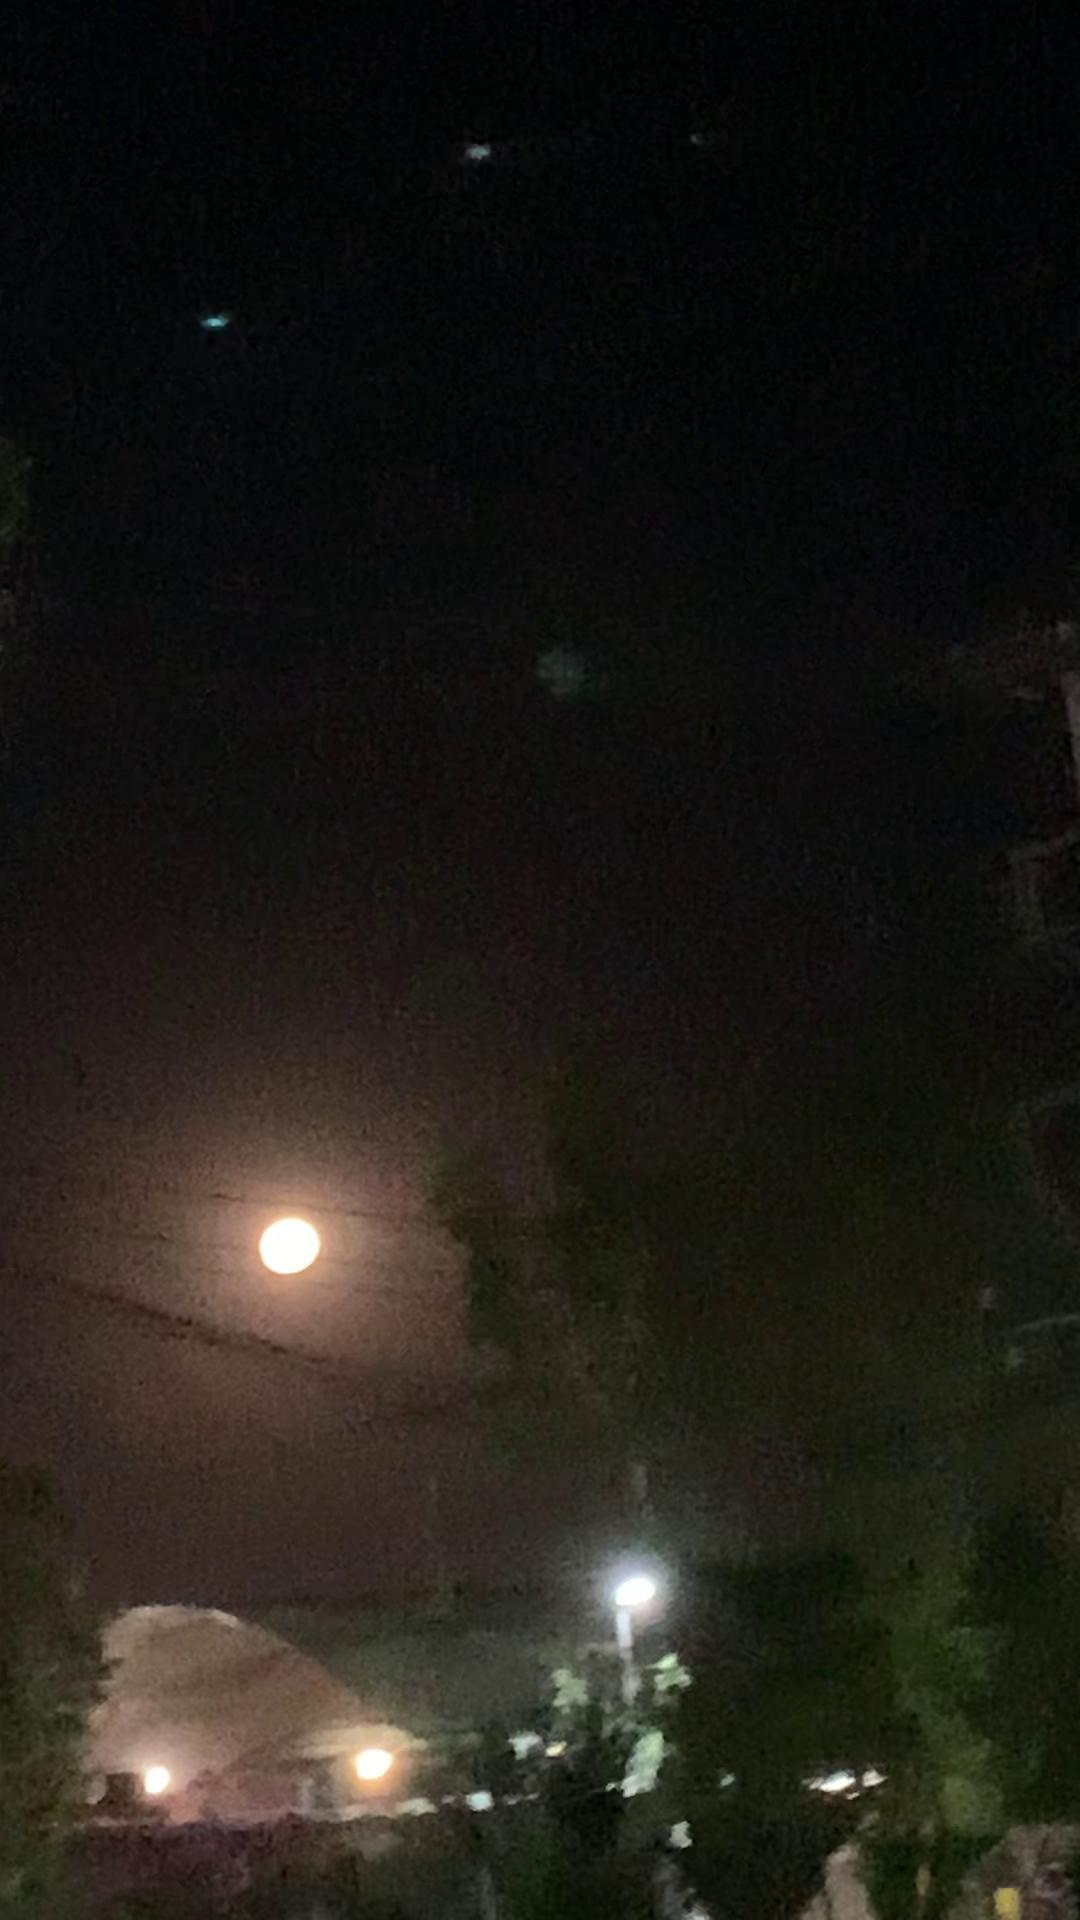moon: (241, 1195, 339, 1278)
